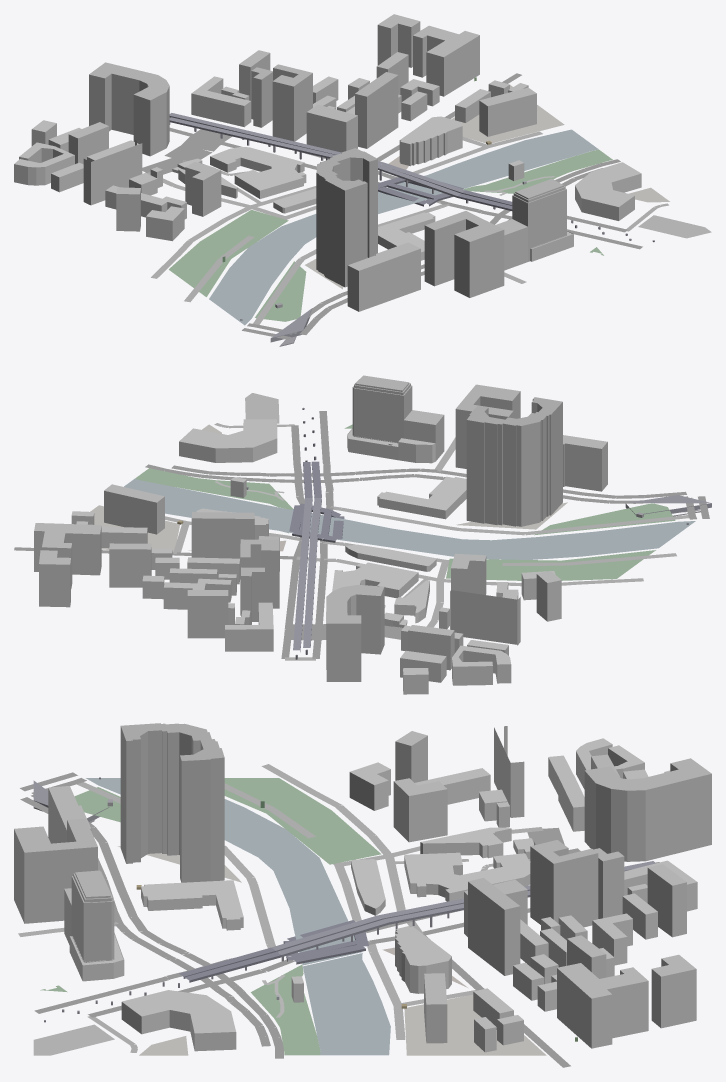
3 views of the same model, one above another, from view 1: azimuth 30°, elevation 25°; view 2: azimuth 150°, elevation 25°; view 3: azimuth 270°, elevation 25° (orthographic). The views are drawn at different scales.
Size of the model in its own units: 551 by 114 by 534.
